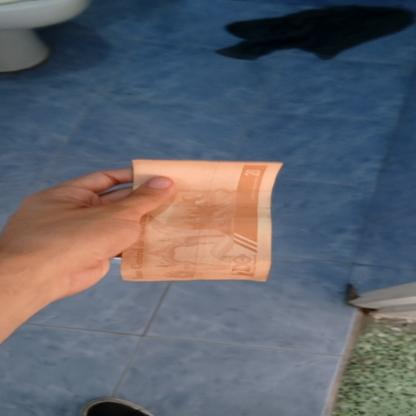twenty-back-vef: (120, 158, 284, 282)
